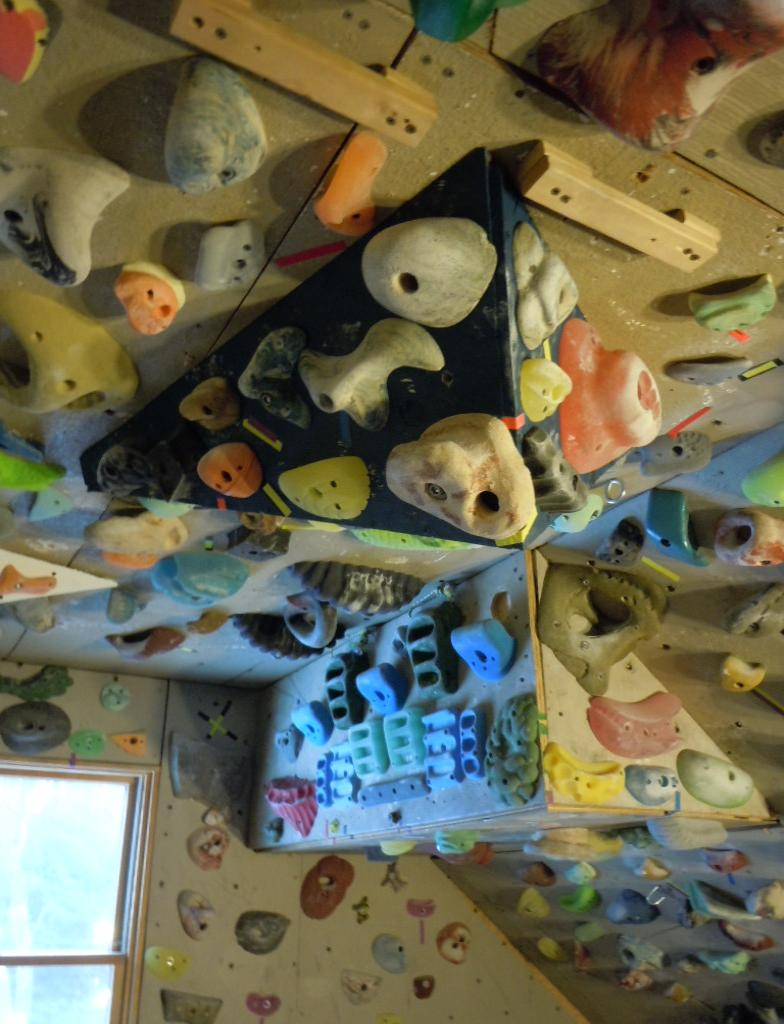crimp: (543, 742, 623, 805), (198, 442, 262, 496), (358, 774, 427, 807), (625, 766, 678, 807)
jug: (0, 289, 138, 414), (538, 564, 666, 696), (192, 220, 263, 290), (451, 619, 514, 682), (521, 357, 571, 423), (292, 701, 333, 747)
ledge: (587, 691, 681, 758), (516, 427, 587, 513), (280, 456, 370, 519)
pinch: (172, 0, 436, 146), (503, 139, 719, 272), (298, 318, 443, 430), (164, 56, 266, 194), (313, 132, 386, 237), (285, 562, 424, 616), (179, 377, 240, 432), (647, 814, 727, 849)
pocket: (386, 414, 535, 542), (715, 510, 783, 566), (299, 856, 353, 919), (237, 910, 290, 955)
sloper: (361, 217, 496, 328), (677, 749, 754, 809)
undercling: (0, 148, 129, 286)
